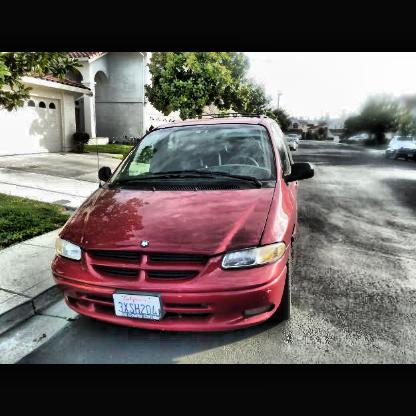Dodge Caravan Minivan 1997: (51, 106, 318, 338)
